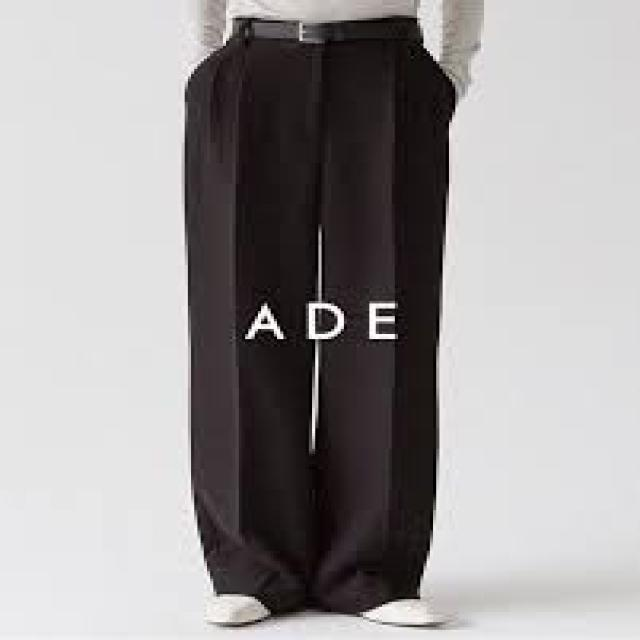pants: (174, 13, 456, 606)
